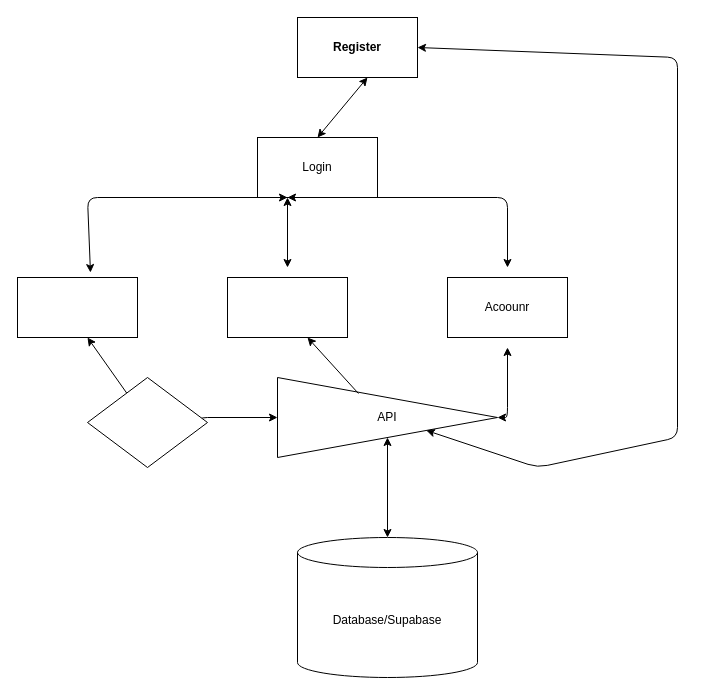
The diagram is 704 pixels wide and 695 high, and some of its shapes have lost their labels. The box of each missing label's shape, as (x1, y1, x2, y2) in pixels:
Buy Tickets: (16, 276, 138, 338)
careers: (226, 276, 348, 338)
Ticket process: (86, 376, 208, 468)
